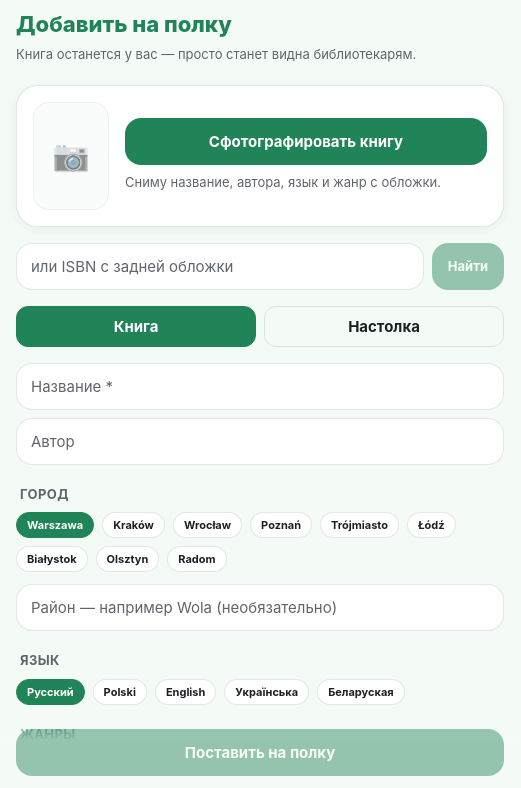
Test: исход модерации после сохранения › админу объясняем, почему книга появилась в каталоге сразу
Type "Дюна" into the field with placeholder "Название *" at (260, 386), box [16,362,504,410]
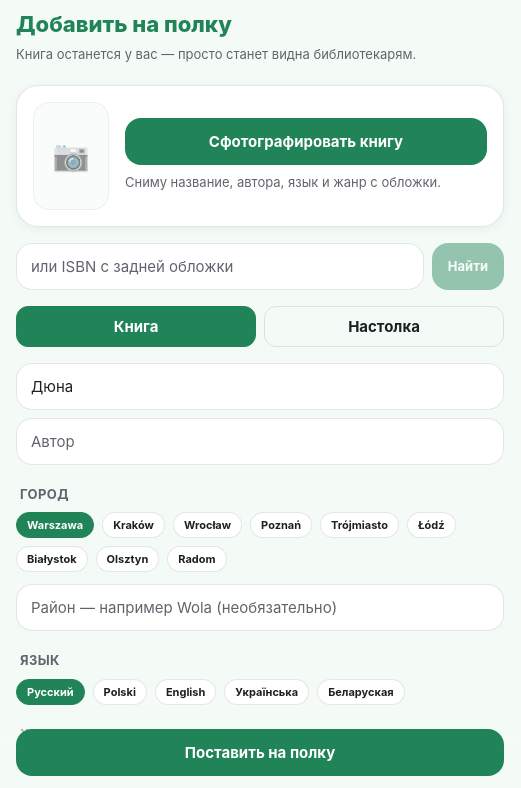
Click the button "Поставить на полку" at (260, 752), box [16,729,504,776]
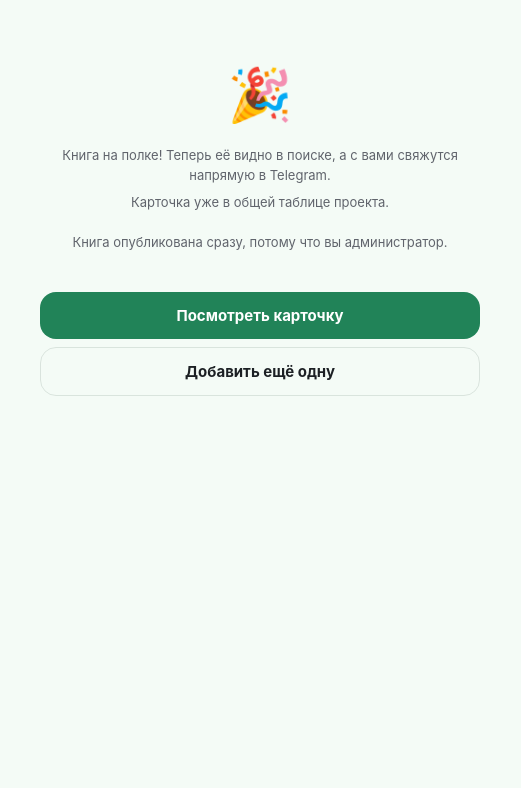
Expected: the text "Книга опубликована сразу, потому что вы администратор." is shown, [40,232,480,252]
